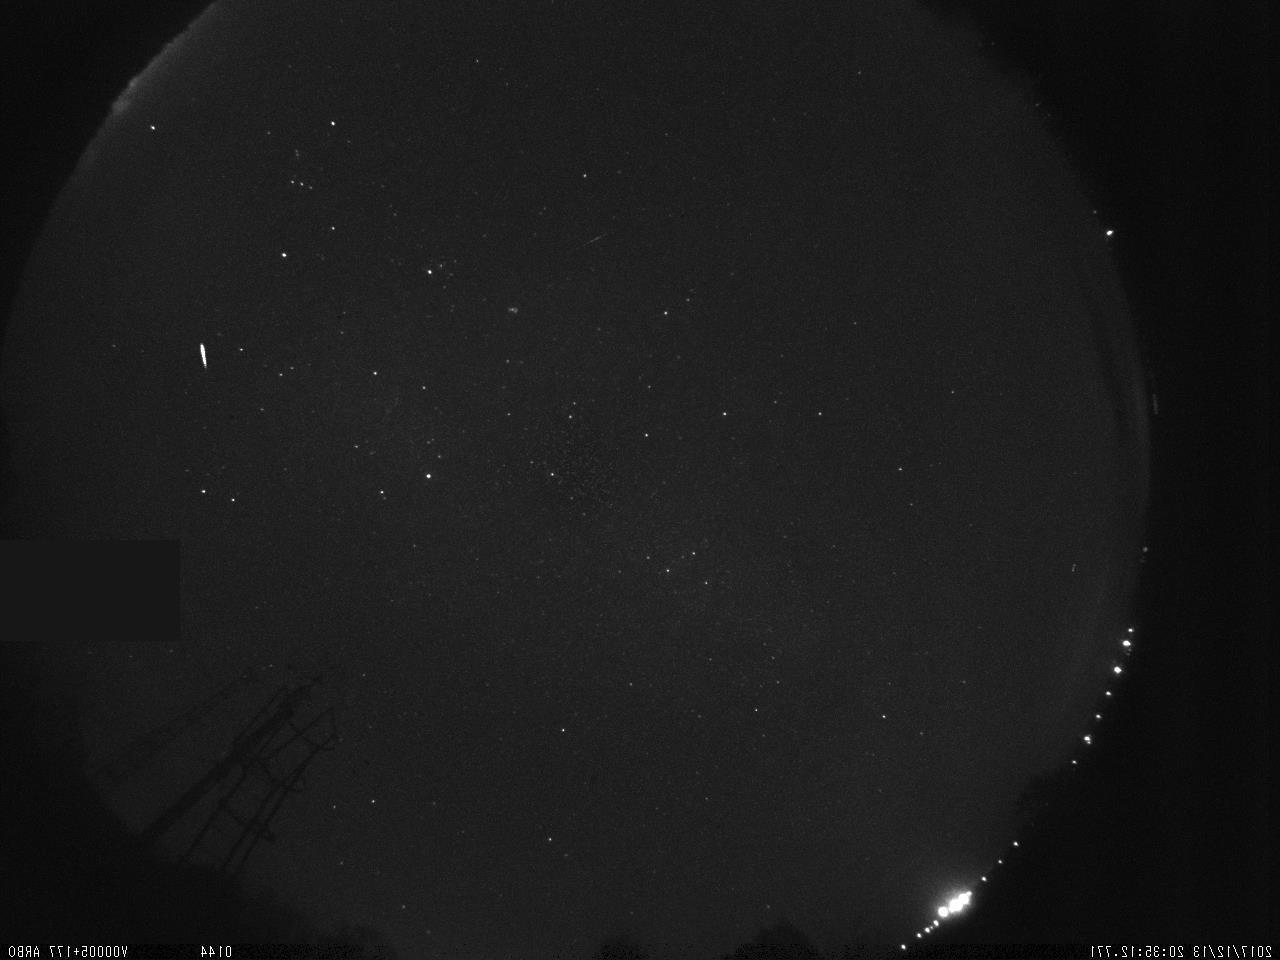meteor: (180, 328, 226, 384)
